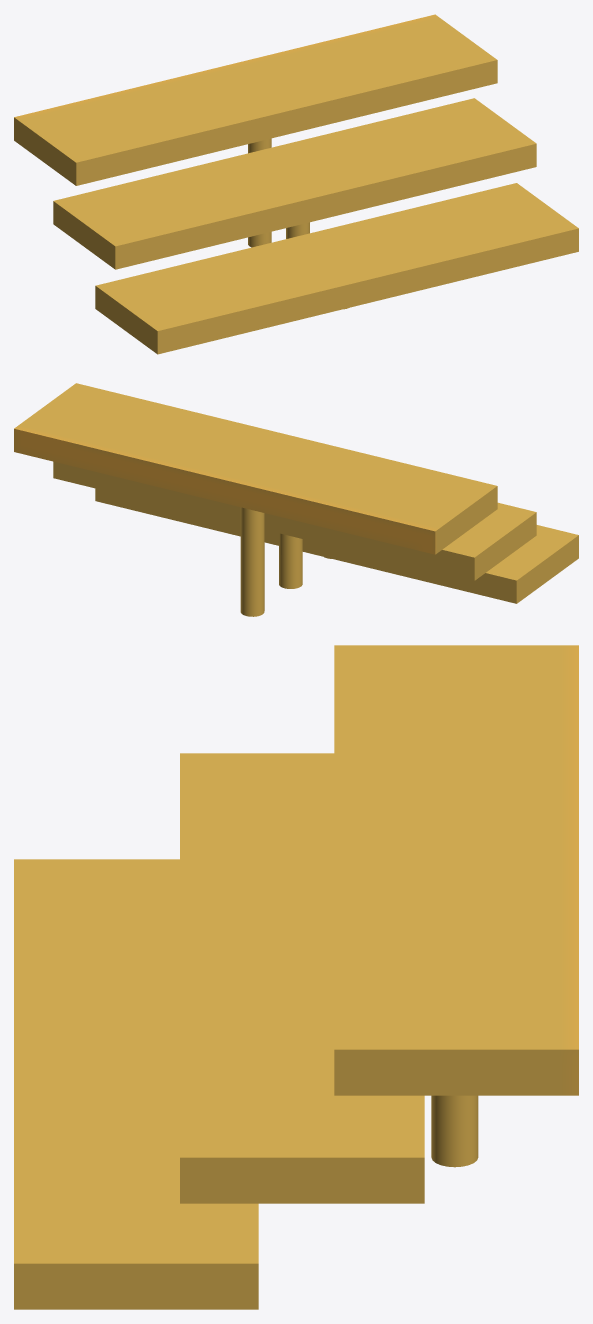
Rendered from Grill_Stairs.fbx.
3 renders of one model, top to bottom at view 1: azimuth 30°, elevation 25°; view 2: azimuth 150°, elevation 25°; view 3: azimuth 270°, elevation 25°, orthographic. The views are drawn at different scales.
Parts seen in each view (by area): view 1: Trappa; view 2: Trappa; view 3: Trappa.
Part boxes in pixels (x1,y1,x2,y2): Trappa: [14, 14, 578, 354]; Trappa: [14, 383, 578, 616]; Trappa: [14, 645, 578, 1309].
Size of the model in its own units: 3.47 by 1.24 by 2.05.
1 material, 1 textured.
